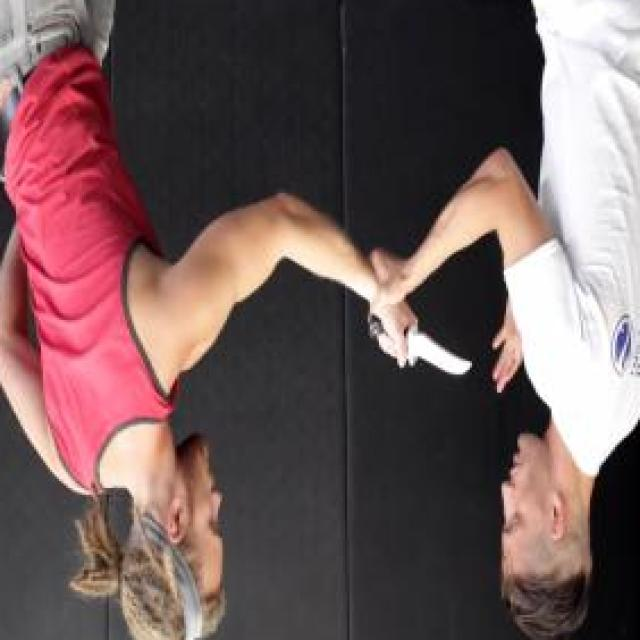knife: (365, 312, 479, 395)
